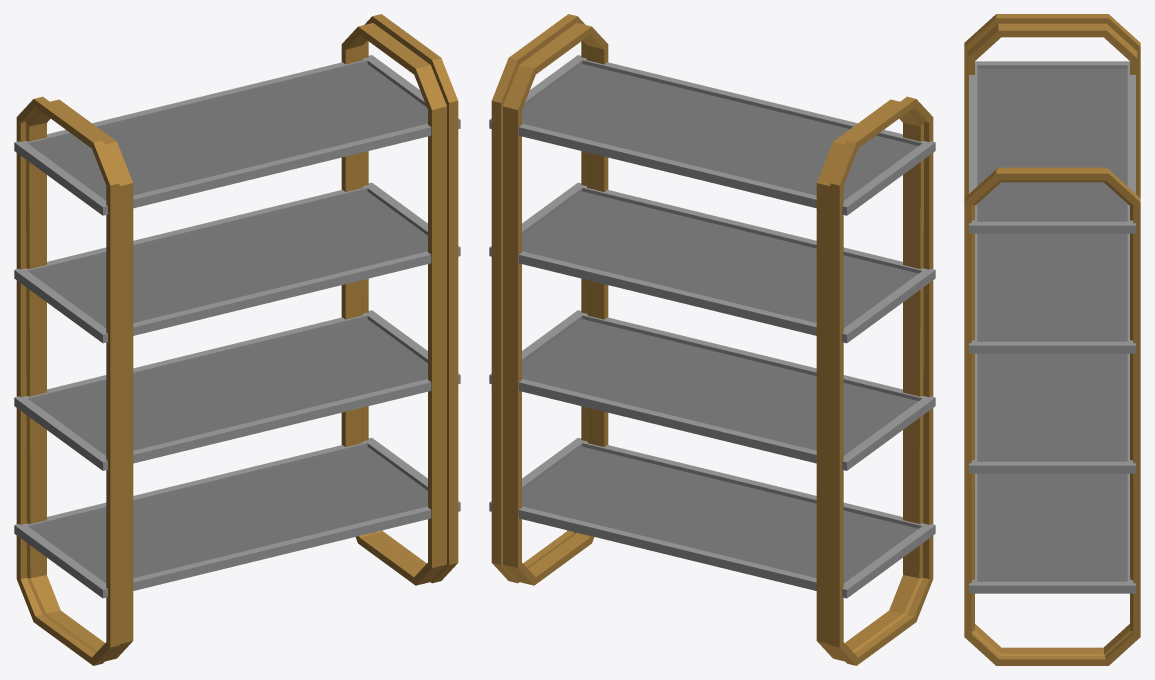
Rendered from Props_Shelf.glb.
3 renders of one model, left to right at view 1: azimuth 30°, elevation 25°; view 2: azimuth 150°, elevation 25°; view 3: azimuth 270°, elevation 25°, orthographic. The views are drawn at different scales.
Parts seen in each view (by area): view 1: Props_Shelf; view 2: Props_Shelf; view 3: Props_Shelf.
Part boxes in pixels (x1,y1,x2,y2): Props_Shelf: (14, 14, 460, 665); Props_Shelf: (489, 14, 935, 665); Props_Shelf: (964, 14, 1140, 665).
Size of the model in its own units: 1.79 by 2.5 by 0.8108.
